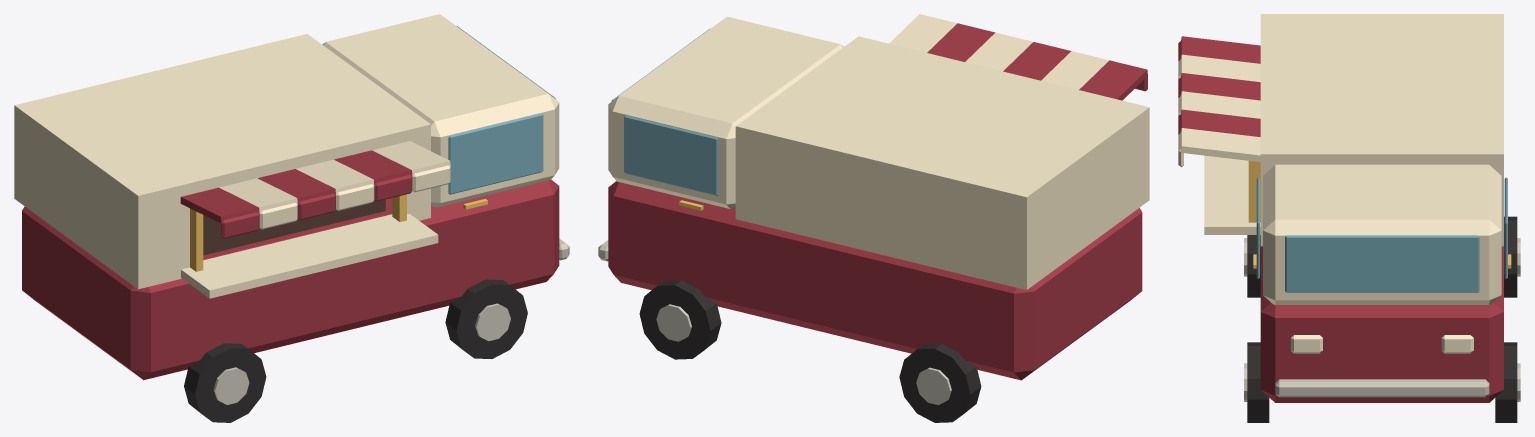
Rendered from truck.glb.
3 renders of one model, left to right at view 1: azimuth 30°, elevation 25°; view 2: azimuth 150°, elevation 25°; view 3: azimuth 270°, elevation 25°, orthographic.
Visible parts, largest first — view 1: truck; view 2: truck; view 3: truck.
Part boxes in pixels (x1=…): truck: x1=14, y1=14, x2=569, y2=422; truck: x1=598, y1=14, x2=1149, y2=422; truck: x1=1178, y1=14, x2=1520, y2=422.
Bounding box in the file's own units: 0.617 × 0.325 × 0.422.
